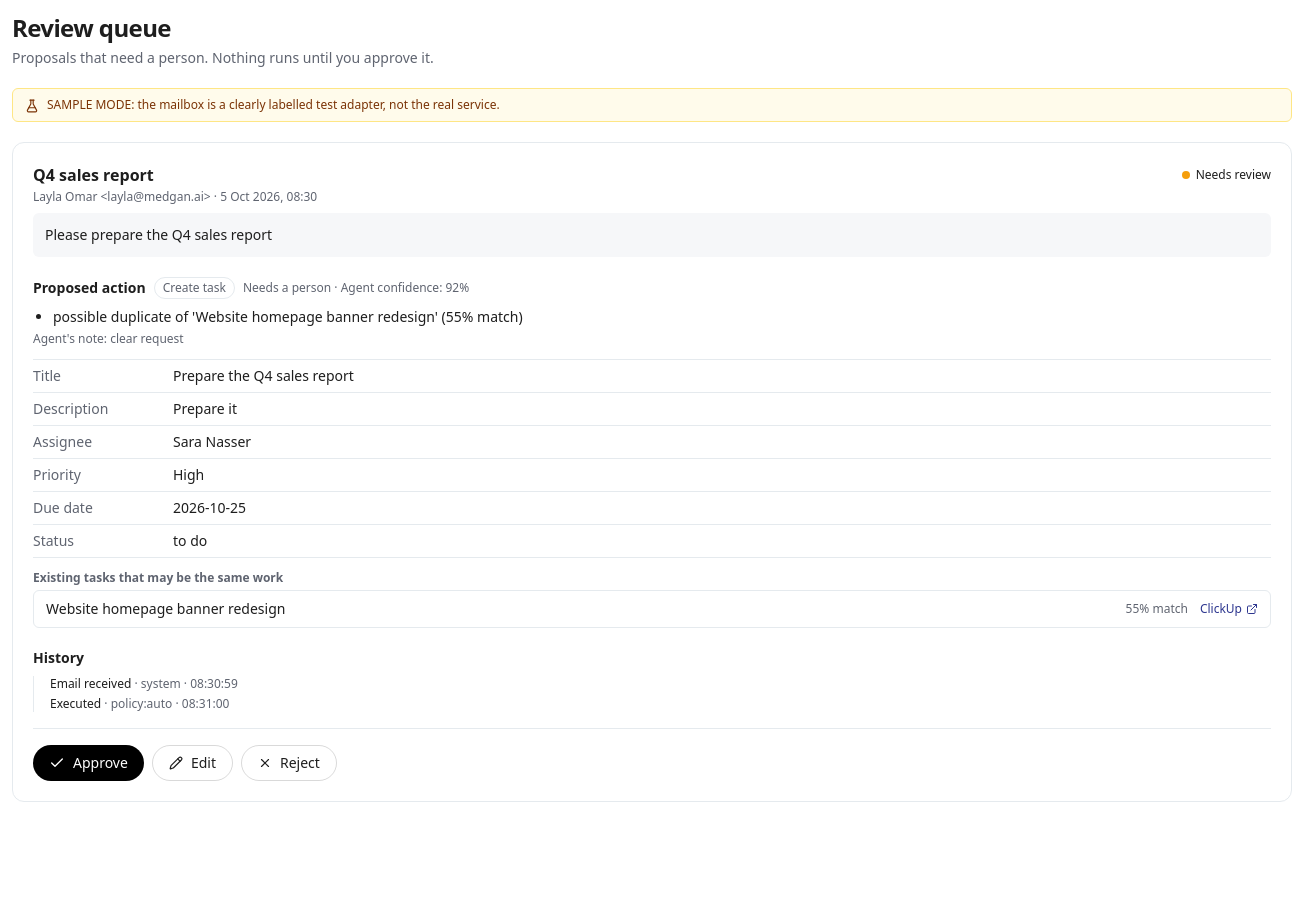
Test case: ReviewView › an unauthorised or already-handled action is explained
Click the button "Approve".
click(88, 763)  # box [33, 745, 144, 781]
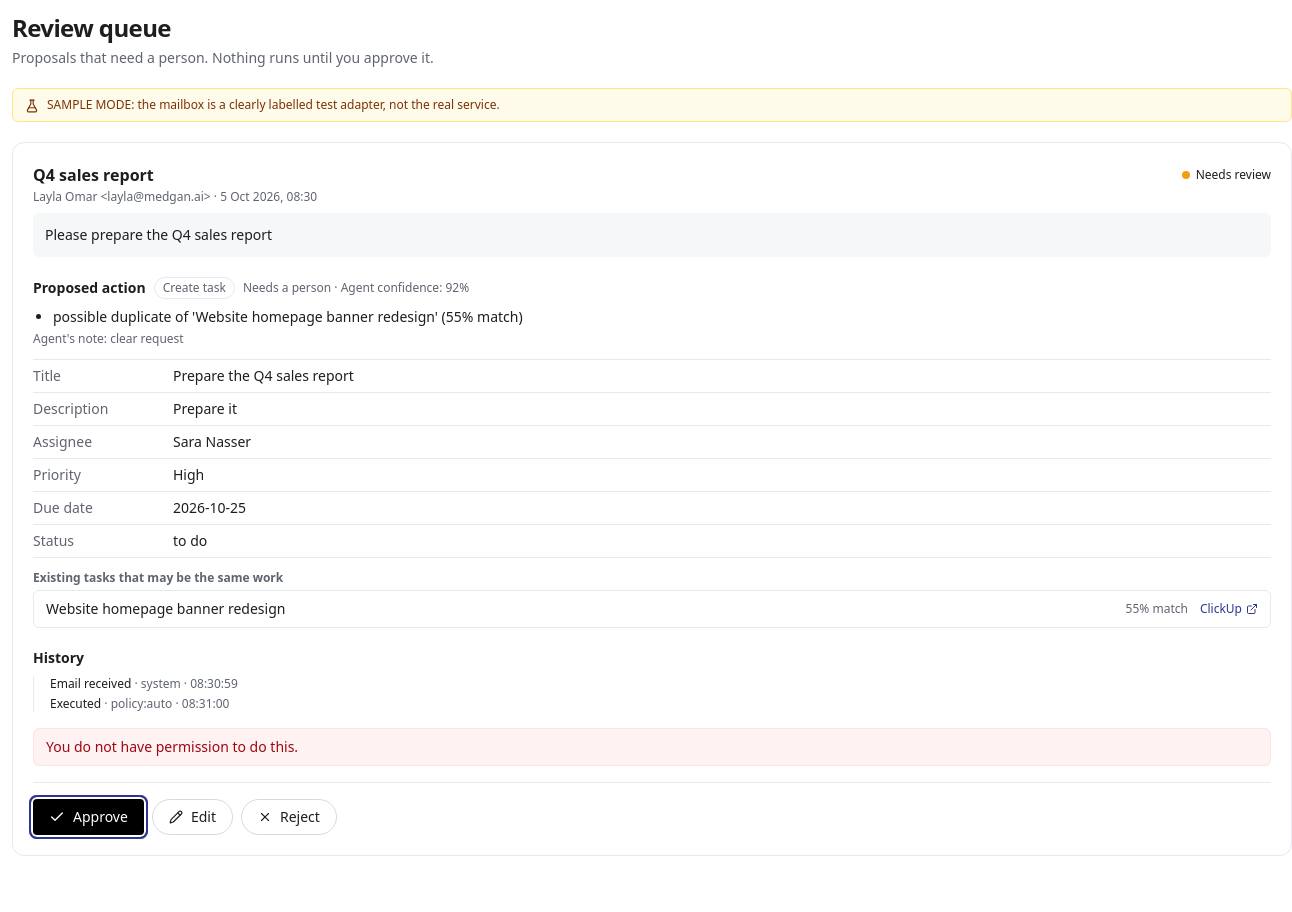
Check: the text "You do not have permission to do this." is shown, box [46, 737, 298, 756]
Click the button "Approve".
click(88, 817)  # box [33, 799, 144, 835]
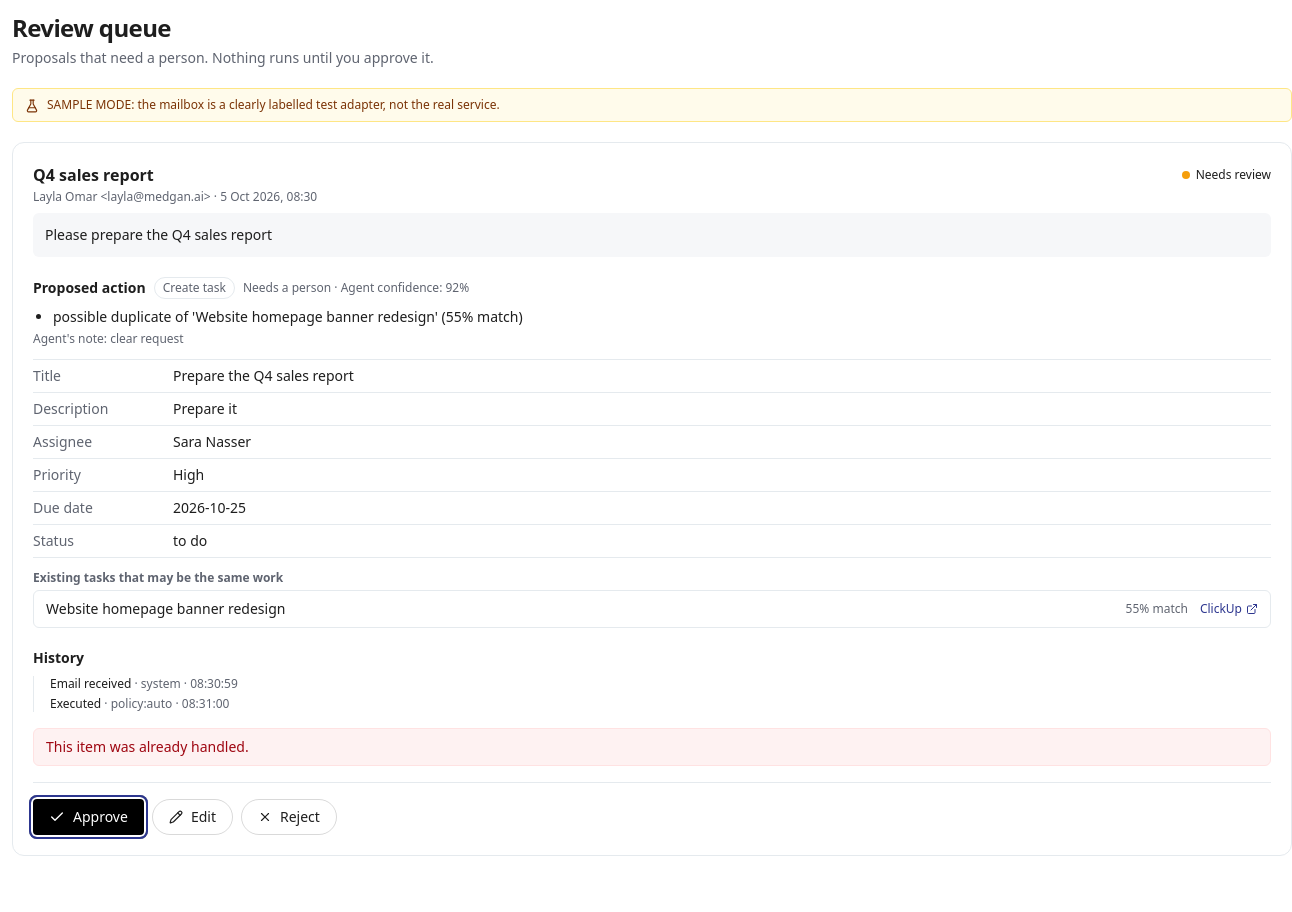
Check: the text "This item was already handled." is shown, box [46, 737, 249, 756]
